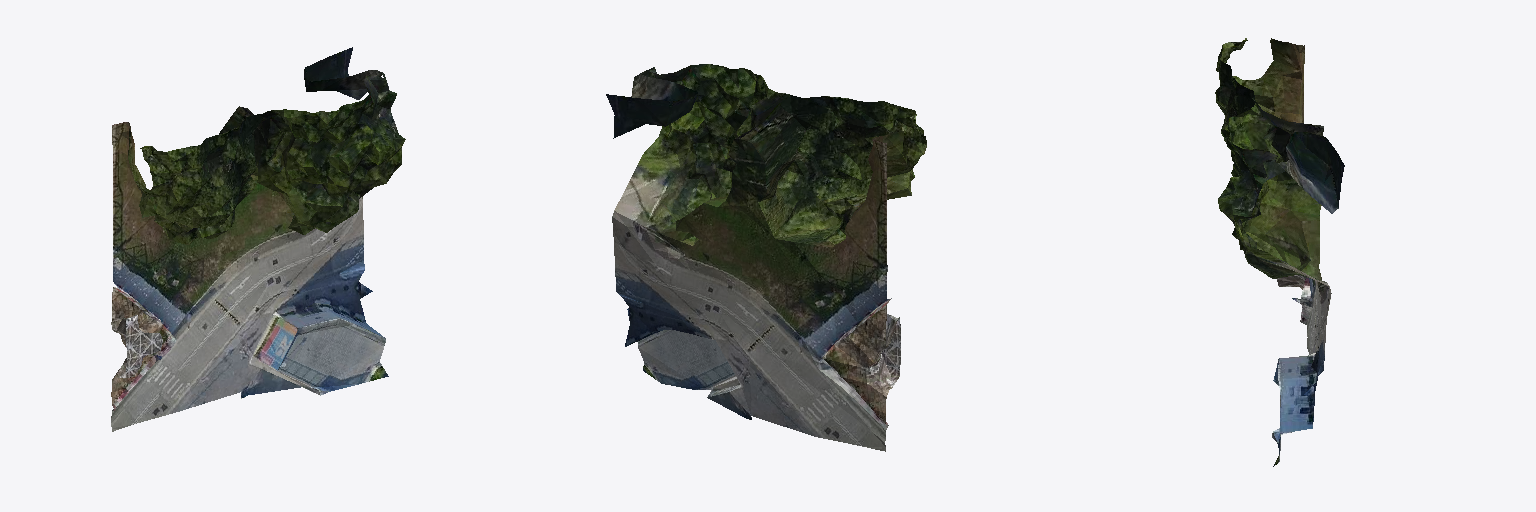
3 views of the same model, side by side, from view 1: azimuth 30°, elevation 25°; view 2: azimuth 150°, elevation 25°; view 3: azimuth 270°, elevation 25° (orthographic).
Visible parts, largest first — view 1: obj_0; view 2: obj_0; view 3: obj_0.
Part boxes in pixels (x1,y1,x2,y2): obj_0: (111,47,405,431); obj_0: (606,64,926,451); obj_0: (1215,38,1344,466).
Bounding box in the file's own units: 40.18 × 45.06 × 17.17.
1 materials, 1 textured.